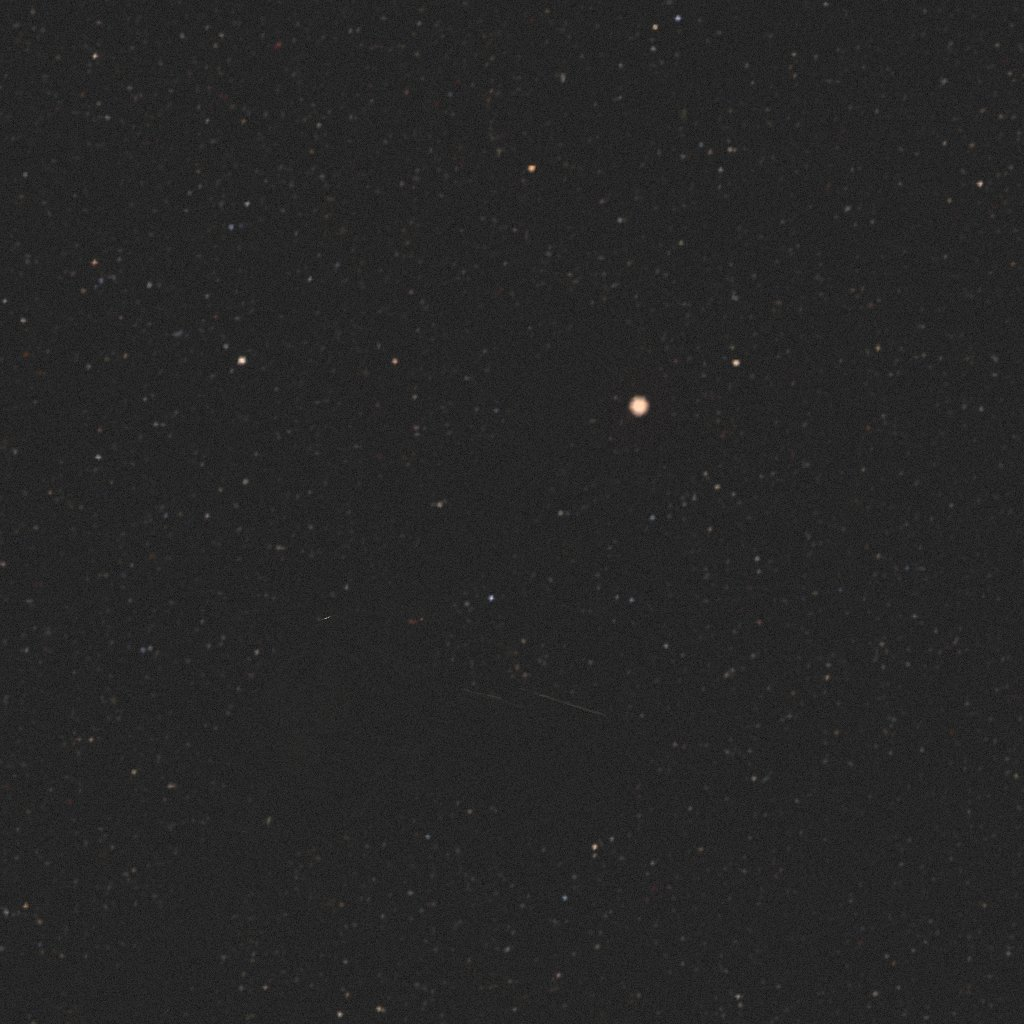xmm_newton: (81, 321, 645, 1024)
